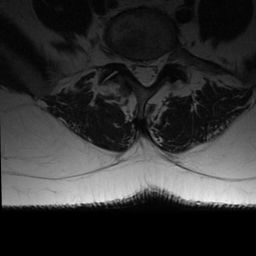CCS_normal: (142, 46, 150, 95)
LFS_normal: (160, 41, 170, 74)
LLS_normal: (150, 45, 160, 87)
RFS_normal: (122, 47, 132, 76)
RLS_normal: (132, 47, 142, 88)
